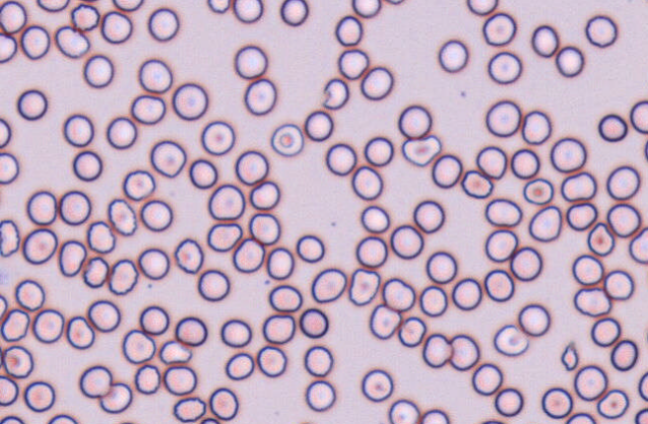RBC: (207, 183, 245, 220), (171, 82, 208, 120), (150, 139, 186, 177), (485, 99, 521, 137), (549, 136, 586, 172), (311, 267, 347, 303), (22, 227, 57, 264), (573, 364, 607, 401), (528, 205, 562, 242), (606, 202, 641, 237), (397, 104, 432, 139), (200, 120, 235, 155), (234, 149, 268, 185), (243, 78, 276, 115), (138, 58, 172, 93), (234, 44, 268, 79), (606, 165, 640, 200), (54, 25, 90, 58), (368, 303, 401, 339), (381, 277, 415, 311), (482, 12, 516, 46), (360, 65, 393, 100), (390, 224, 423, 259), (487, 51, 522, 84), (232, 237, 264, 273), (560, 171, 597, 202), (573, 287, 611, 317), (484, 197, 522, 227), (122, 329, 155, 363), (360, 368, 393, 402), (484, 229, 518, 262), (412, 199, 445, 233), (270, 123, 304, 156), (584, 14, 618, 47), (493, 324, 528, 356), (510, 246, 542, 281), (32, 308, 64, 343), (351, 165, 383, 200), (59, 190, 91, 225), (449, 333, 479, 370), (107, 198, 137, 235), (108, 258, 138, 295), (79, 365, 112, 398), (87, 299, 120, 332), (475, 145, 507, 179), (147, 7, 179, 41), (421, 333, 452, 368), (26, 190, 57, 225), (431, 153, 462, 188), (206, 222, 242, 252), (130, 94, 166, 124), (471, 362, 503, 395), (541, 386, 573, 419), (518, 303, 550, 336), (425, 250, 457, 283), (197, 269, 230, 301), (100, 10, 132, 43), (137, 247, 169, 280), (83, 54, 114, 88), (63, 113, 94, 147), (20, 24, 50, 59), (174, 237, 203, 273), (23, 380, 55, 412), (304, 379, 336, 411), (248, 212, 280, 244), (140, 199, 172, 231), (355, 235, 387, 267), (99, 382, 132, 413), (596, 388, 629, 419), (2, 345, 33, 378), (122, 169, 155, 200), (483, 269, 514, 302), (325, 142, 356, 175), (451, 277, 482, 310), (106, 116, 137, 149), (437, 39, 468, 72), (163, 365, 197, 395), (521, 110, 551, 144), (586, 221, 615, 256), (571, 254, 603, 285), (14, 279, 45, 311), (256, 345, 287, 377), (337, 48, 369, 79), (0, 308, 30, 341), (262, 314, 295, 344), (603, 269, 634, 300), (16, 89, 47, 120), (565, 201, 597, 231), (175, 316, 207, 346), (303, 345, 333, 377), (460, 169, 493, 198), (209, 387, 238, 420), (86, 220, 115, 253), (66, 315, 94, 349), (268, 284, 302, 312), (266, 246, 294, 280), (590, 317, 621, 347), (249, 180, 280, 210), (510, 148, 540, 179), (72, 150, 102, 181), (220, 318, 252, 347), (555, 45, 584, 77), (531, 24, 559, 57), (139, 305, 169, 335), (363, 136, 393, 166), (299, 307, 328, 338), (304, 110, 333, 141), (334, 15, 363, 46), (522, 177, 554, 205), (610, 339, 638, 371), (419, 285, 447, 317), (0, 0, 26, 34), (172, 396, 206, 422), (494, 387, 523, 417), (360, 204, 390, 233), (597, 113, 627, 142), (189, 158, 217, 189), (295, 234, 324, 263), (70, 3, 99, 31), (225, 352, 254, 380), (134, 364, 160, 394), (388, 398, 419, 423), (279, 0, 308, 26), (232, 0, 263, 23), (628, 227, 647, 264), (0, 151, 19, 184), (629, 100, 647, 134), (0, 375, 18, 406), (351, 0, 381, 18), (0, 32, 17, 63), (466, 0, 498, 15), (419, 408, 449, 423), (36, 0, 69, 12), (0, 117, 11, 148), (565, 412, 596, 423), (112, 0, 143, 11), (47, 413, 78, 423), (207, 0, 230, 13), (638, 371, 647, 401), (634, 407, 647, 423), (0, 294, 8, 319), (0, 415, 24, 423), (199, 417, 219, 423), (643, 138, 648, 161), (643, 325, 648, 347), (383, 0, 405, 5), (76, 0, 100, 3)
Schistocyte: (402, 135, 445, 167), (350, 267, 380, 309), (59, 241, 88, 278), (323, 78, 350, 109), (0, 219, 21, 258), (160, 339, 192, 363), (83, 257, 108, 287), (560, 340, 580, 372)
